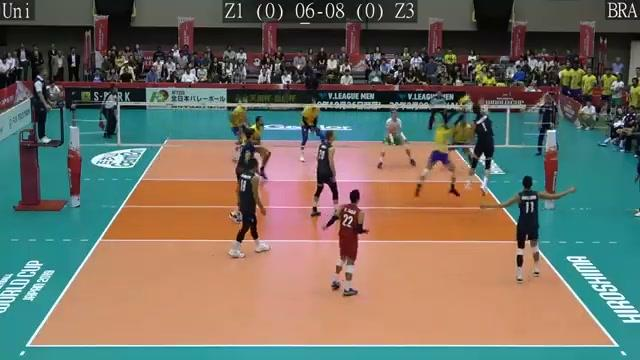ball: (454, 95, 475, 107)
